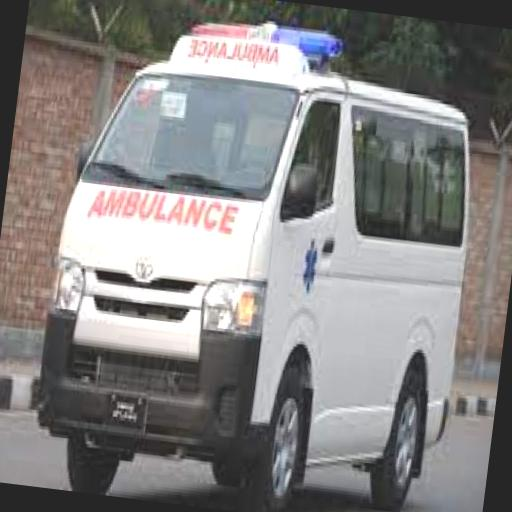Police car: (17, 3, 502, 512)
